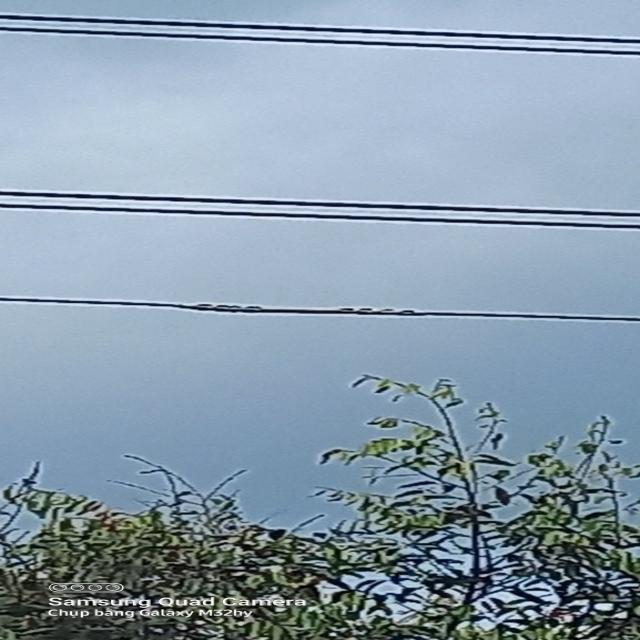wire: (0, 188, 640, 222), (1, 12, 640, 46), (0, 26, 640, 57)
